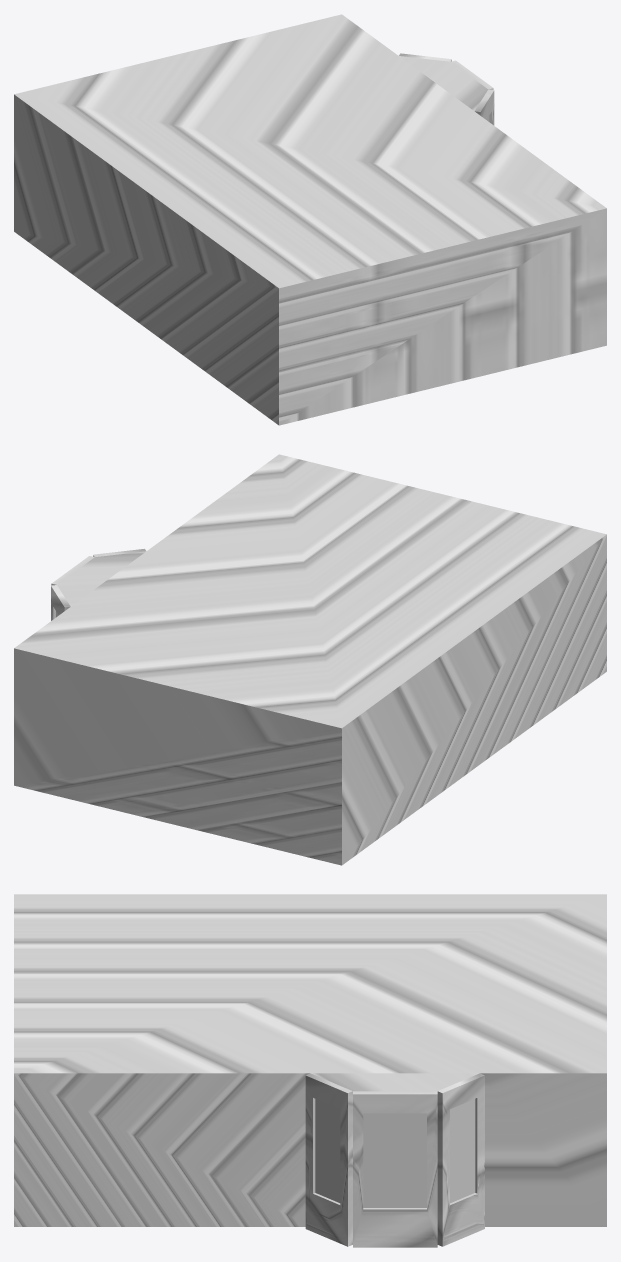
File: listeningroom.dae
3 views of the same model, one above another, from view 1: azimuth 30°, elevation 25°; view 2: azimuth 150°, elevation 25°; view 3: azimuth 270°, elevation 25° (orthographic). The views are drawn at different scales.
Parts seen in each view (by area): view 1: ID64, ID56, ID22, ID30; view 2: ID64, ID14, ID22, ID30; view 3: ID64, ID30, ID92, ID82, ID72.
Boxes of the visible parts, left/top/right/bottom form: ID64: left=14, top=14, right=606, bottom=288; ID56: left=279, top=208, right=606, bottom=425; ID22: left=14, top=94, right=278, bottom=425; ID30: left=399, top=53, right=494, bottom=125; ID64: left=14, top=454, right=606, bottom=728; ID14: left=14, top=648, right=341, bottom=865; ID22: left=342, top=534, right=606, bottom=865; ID30: left=51, top=548, right=145, bottom=620; ID64: left=14, top=894, right=606, bottom=1091; ID30: left=14, top=1073, right=606, bottom=1247; ID92: left=363, top=1113, right=426, bottom=1207; ID82: left=450, top=1099, right=475, bottom=1203; ID72: left=315, top=1099, right=340, bottom=1202.
Size of the model in its own units: 6.81 by 2.44 by 8.53.
